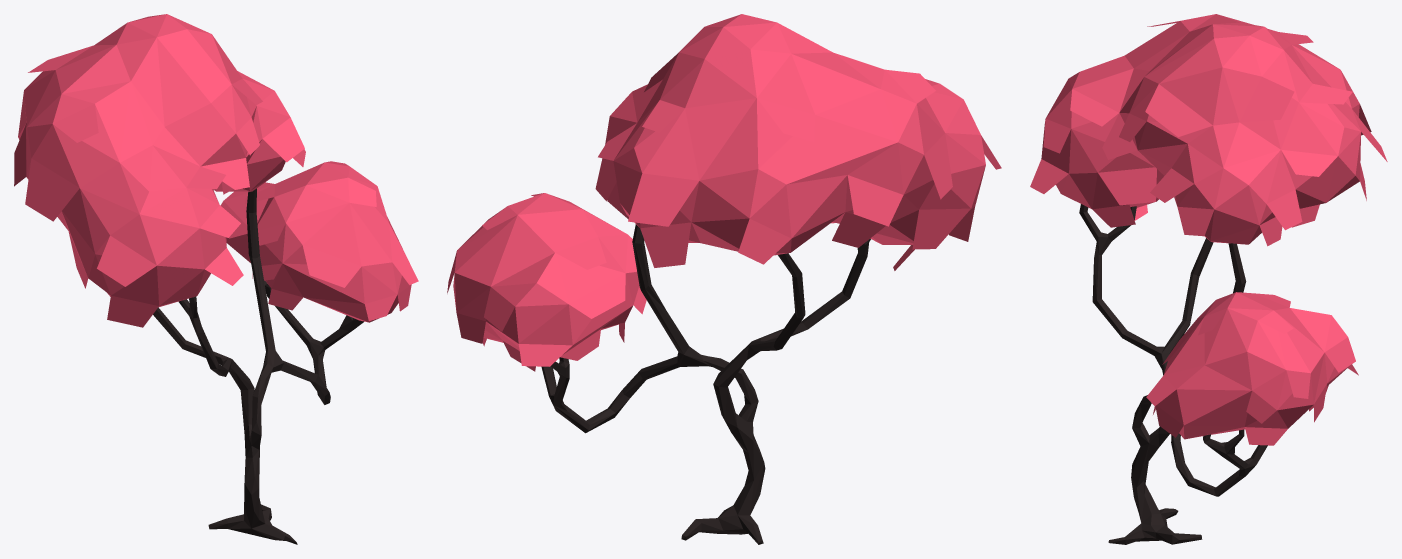
The model's file is Tree_Forest_Pink_01.glb.
The picture shows the model from 3 angles, left to right: view 1: azimuth 30°, elevation 25°; view 2: azimuth 150°, elevation 25°; view 3: azimuth 270°, elevation 25°; orthographic projection. The views are drawn at different scales.
Parts seen in each view (by area): view 1: Tree_Forest_Pink_01; view 2: Tree_Forest_Pink_01; view 3: Tree_Forest_Pink_01.
Boxes of the visible parts, <box> form: Tree_Forest_Pink_01: <box>14,14,418,544</box>; Tree_Forest_Pink_01: <box>447,14,1001,544</box>; Tree_Forest_Pink_01: <box>1030,14,1387,544</box>.
Size of what is drawn, in the model's own units: 7.95 by 9.58 by 6.44.
Materials: 1 (1 with a texture image).
